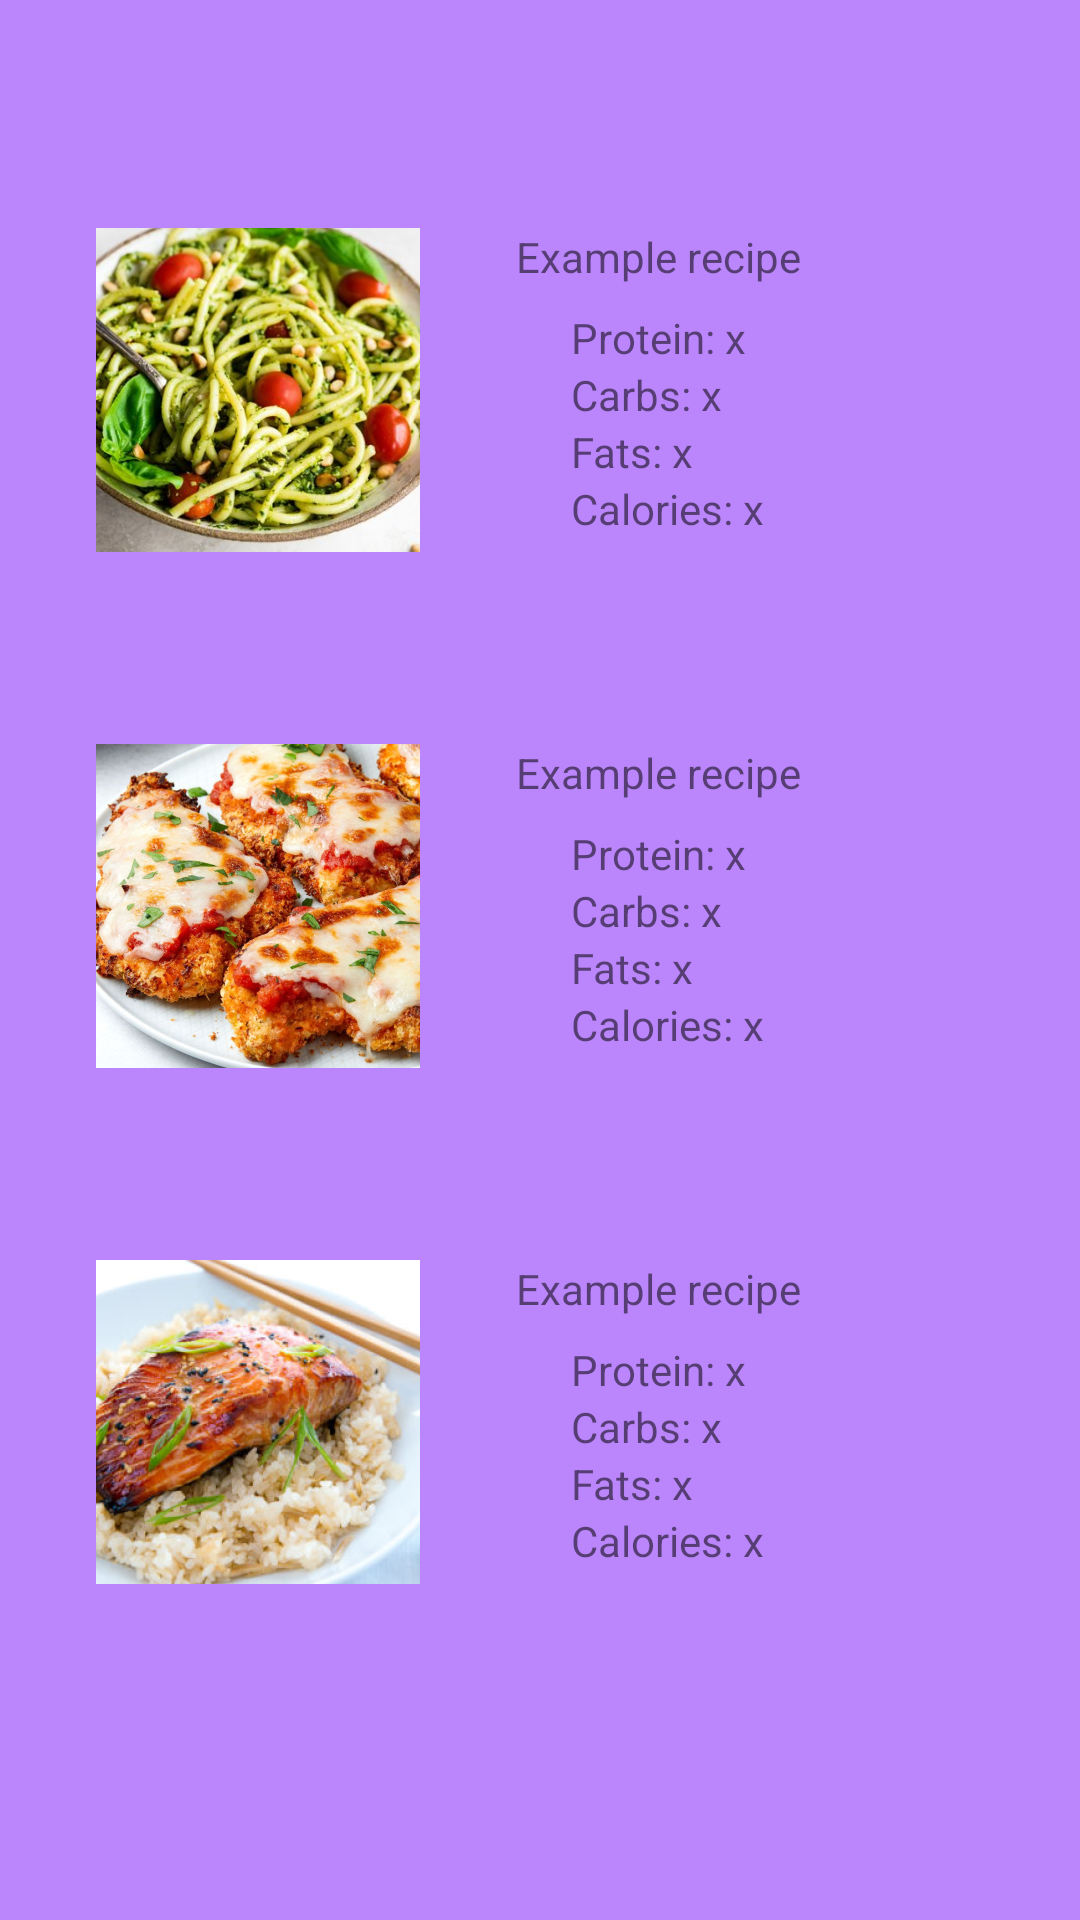

Locate icon controls on the screen. Image size 1080px x 1920px, boxes as (x1,y1,x2,y2).
chickenparm: (96,744,420,1068)
misosalmon: (96,1260,420,1584)
pestopasta: (96,228,420,552)
